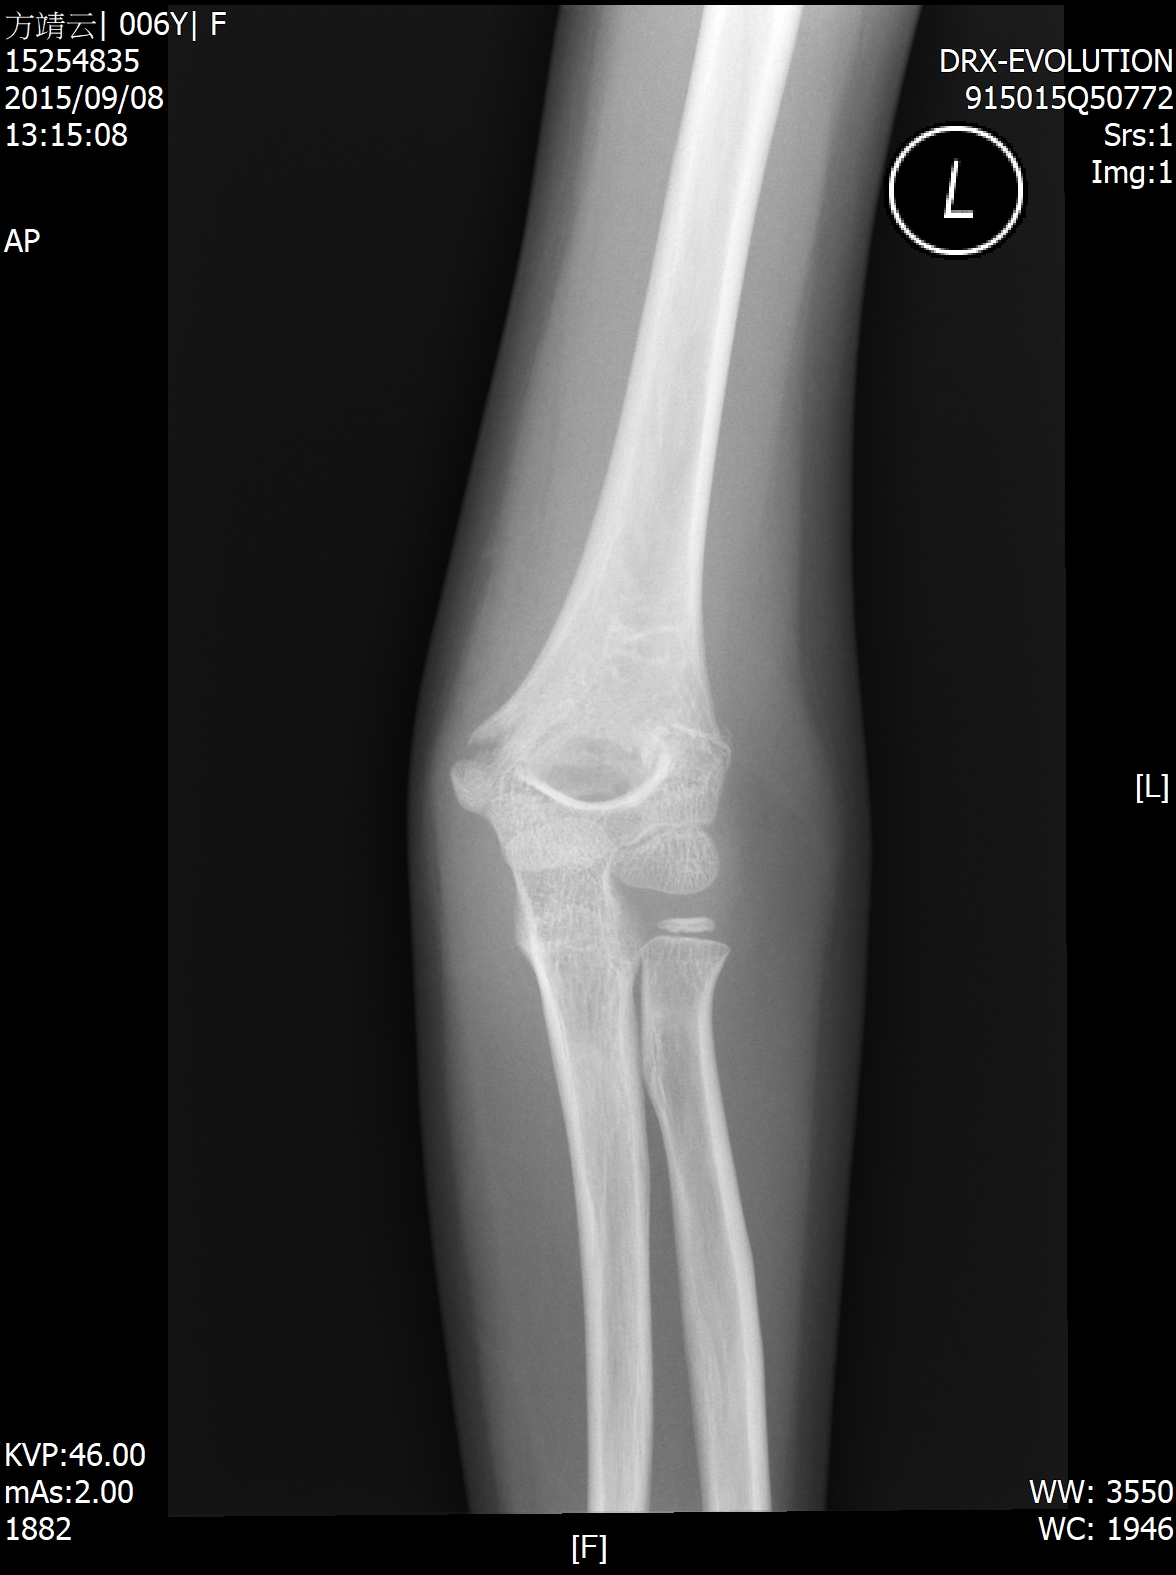SCF type 2: (267, 539, 909, 1085)
